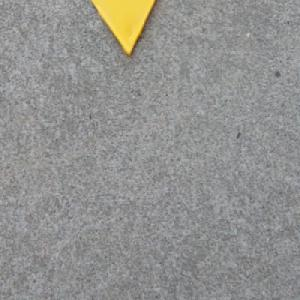PlasticPart: (91, 0, 159, 58)
